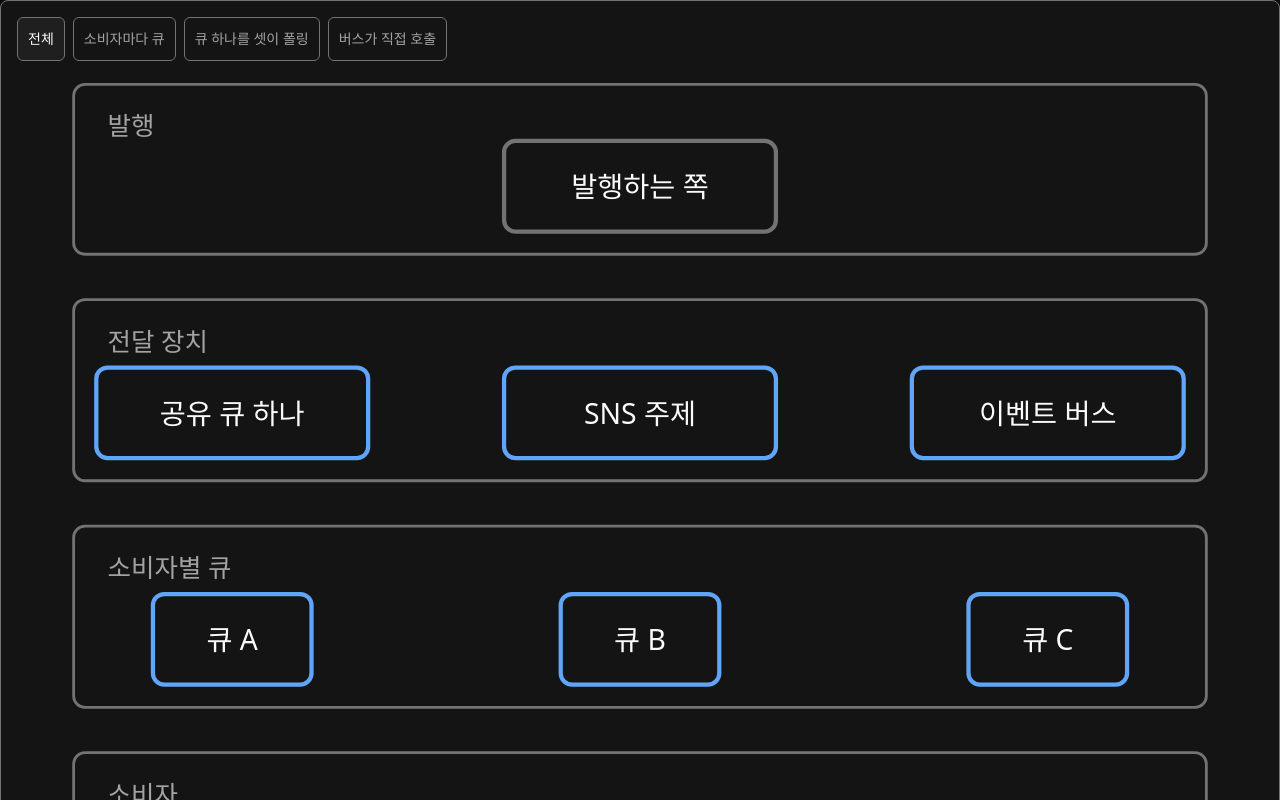
Test case: SnsFanoutDiagram › 큐 하나를 셋이 폴링 캡션은 20자를 넘으며 구성이 요구에 맞거나 어긋나는 이유를 설명한다
This screenshot has width=1280, height=800.
Click the button "큐 하나를 셋이 폴링" at point(252, 39), box 184,17 -> 320,61
(page scrolled)
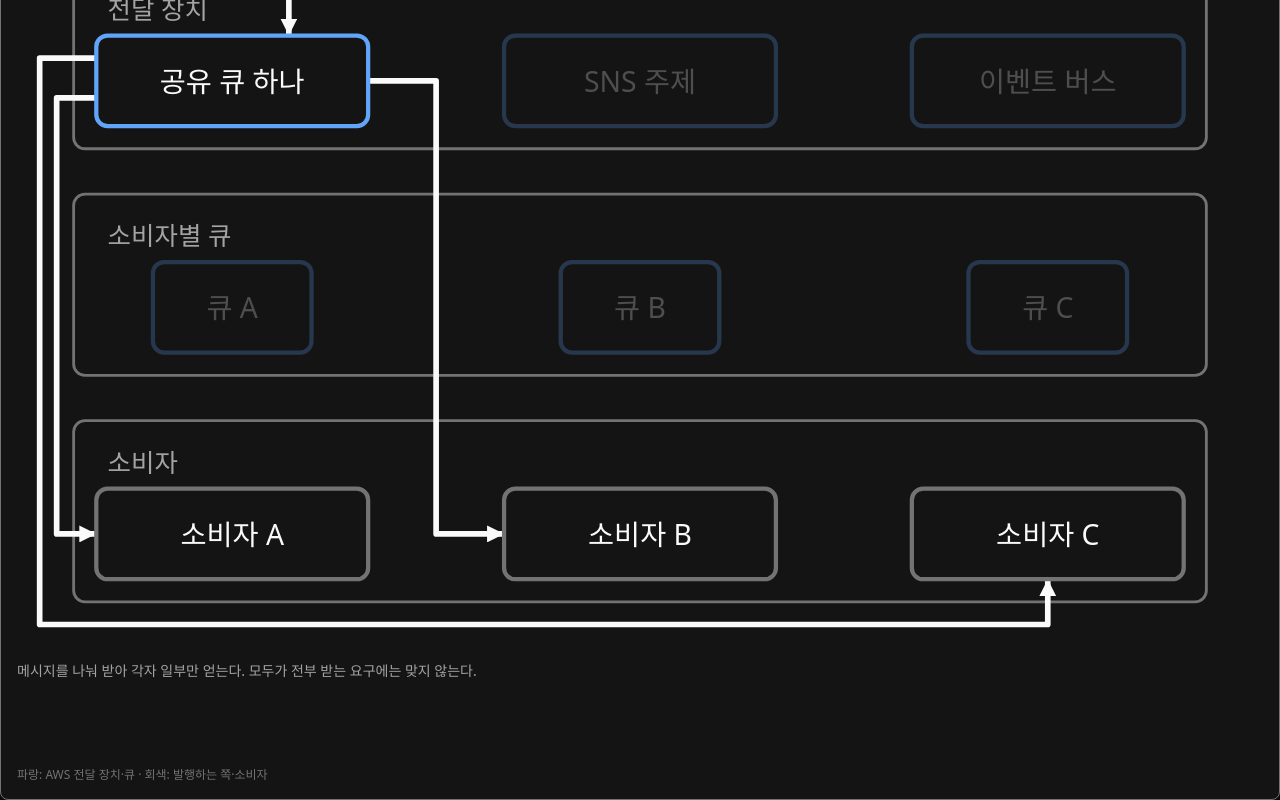
expect the text "메시지를 나눠 받아 각자 일부만 얻는다. 모두가 전부 받는 요구에는 맞지 않는다." is shown: met, box 17,661 -> 477,680
